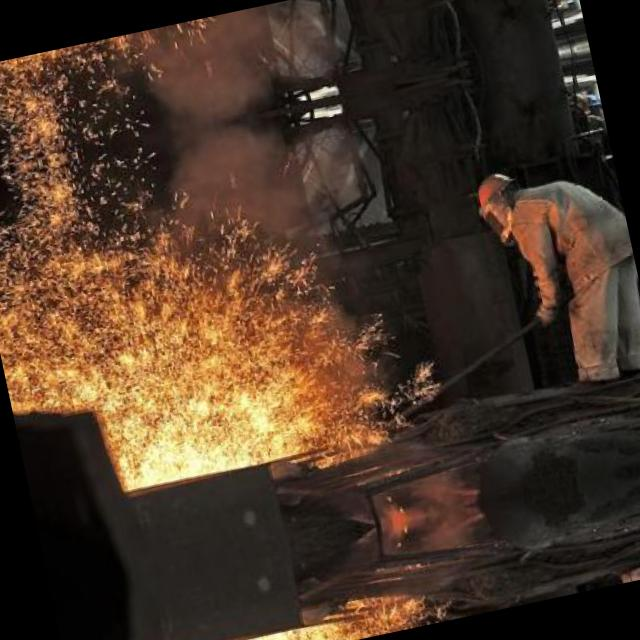helmet: (464, 163, 536, 231)
